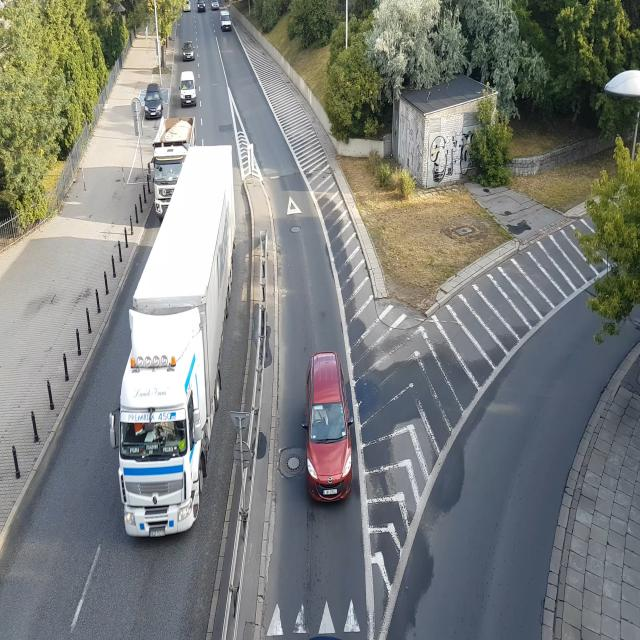car: (303, 340, 354, 512), (180, 73, 199, 107), (144, 88, 164, 119), (181, 32, 196, 65), (221, 14, 233, 31), (198, 0, 206, 19), (210, 0, 220, 14), (184, 0, 194, 14)
truck: (149, 116, 194, 217)
